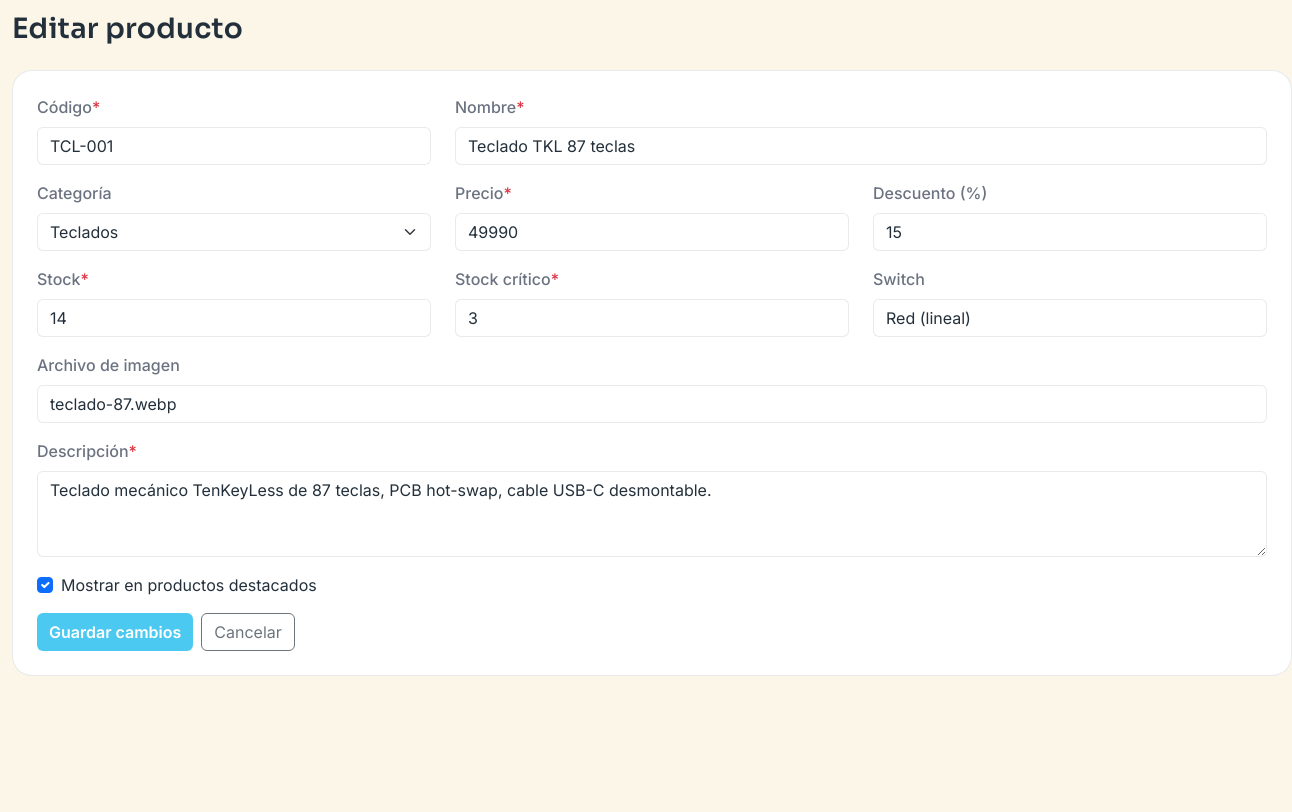
Test: ProductoForm › rechaza un stock negativo en lugar de guardarlo
Replace the text in the number field labelled "Stock*" with "-5" at (234, 318), box left=37, top=299, right=431, bottom=337
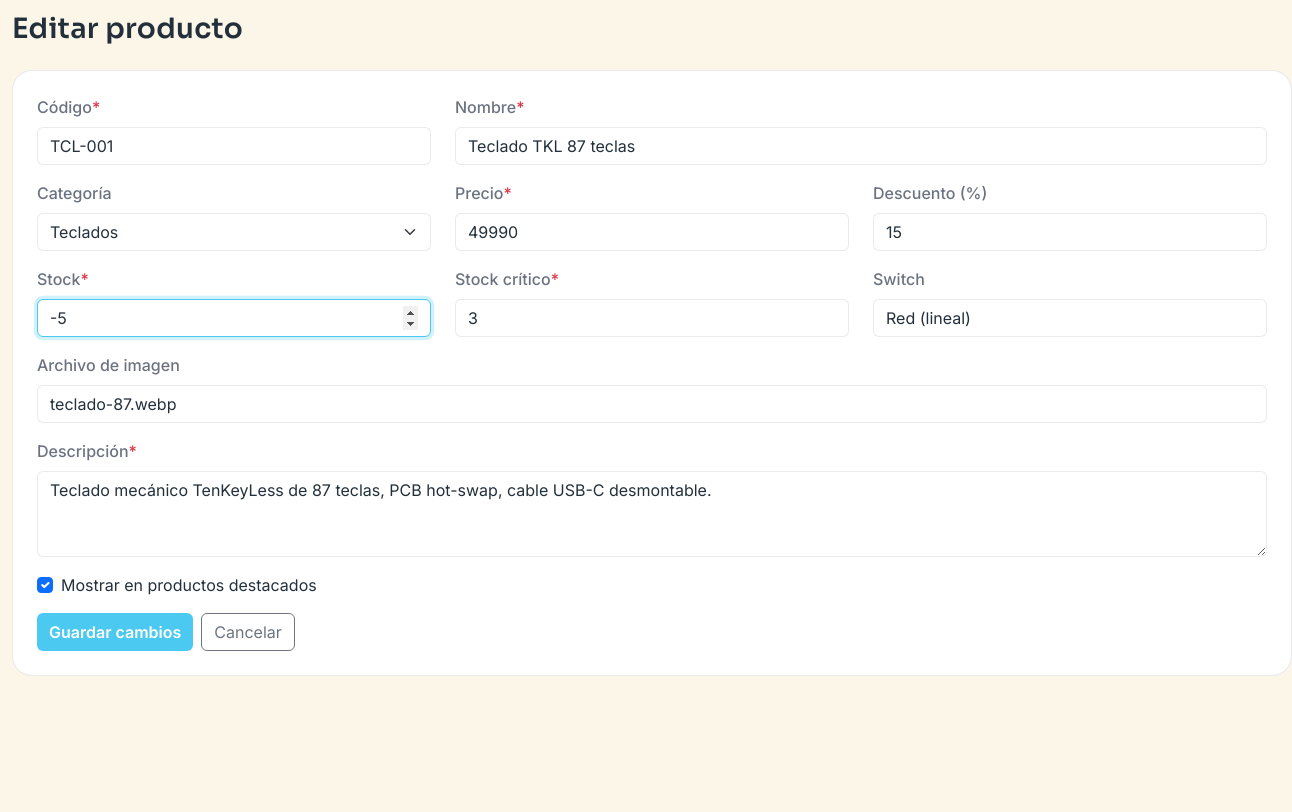
Click the button "Guardar cambios" at (115, 632), box left=37, top=613, right=193, bottom=651
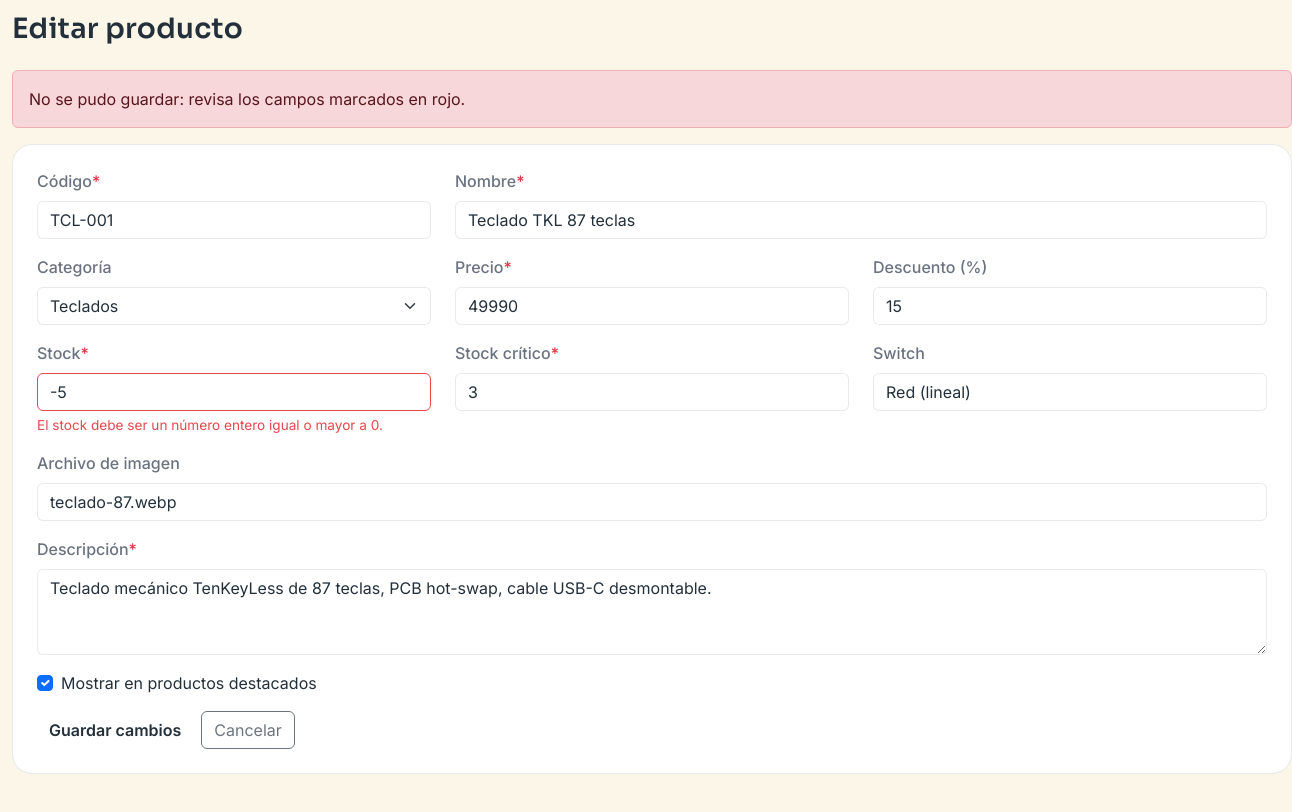
Expected: the message "No se pudo guardar: revisa los campos marcados en rojo." is shown, left=12, top=70, right=1291, bottom=128
